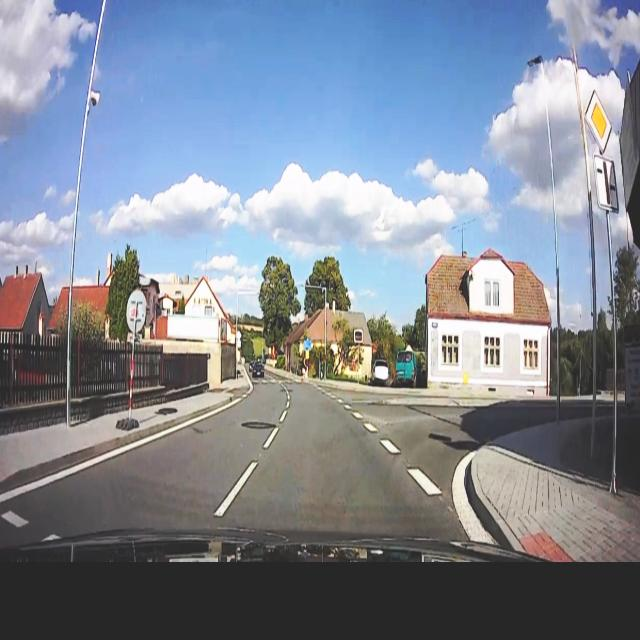Priority road: (582, 86, 615, 156)
